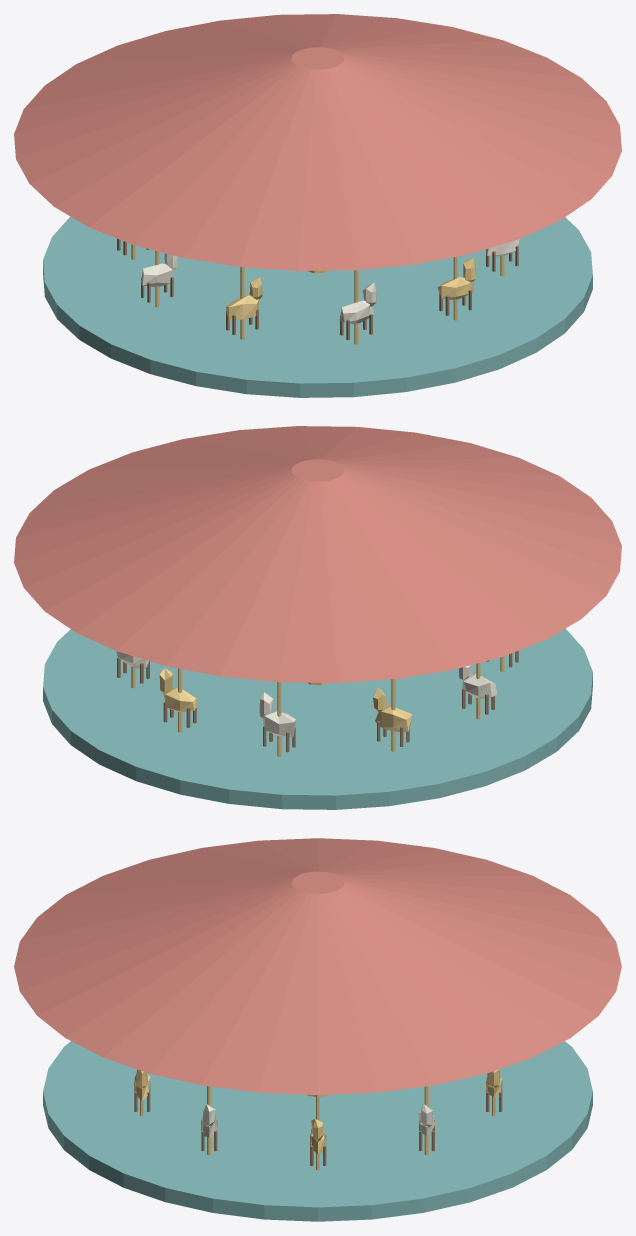
The picture shows the model from 3 angles, top to bottom: view 1: azimuth 30°, elevation 25°; view 2: azimuth 150°, elevation 25°; view 3: azimuth 270°, elevation 25°; orthographic projection.
Size of the model in its own units: 23 by 9.3 by 23.
